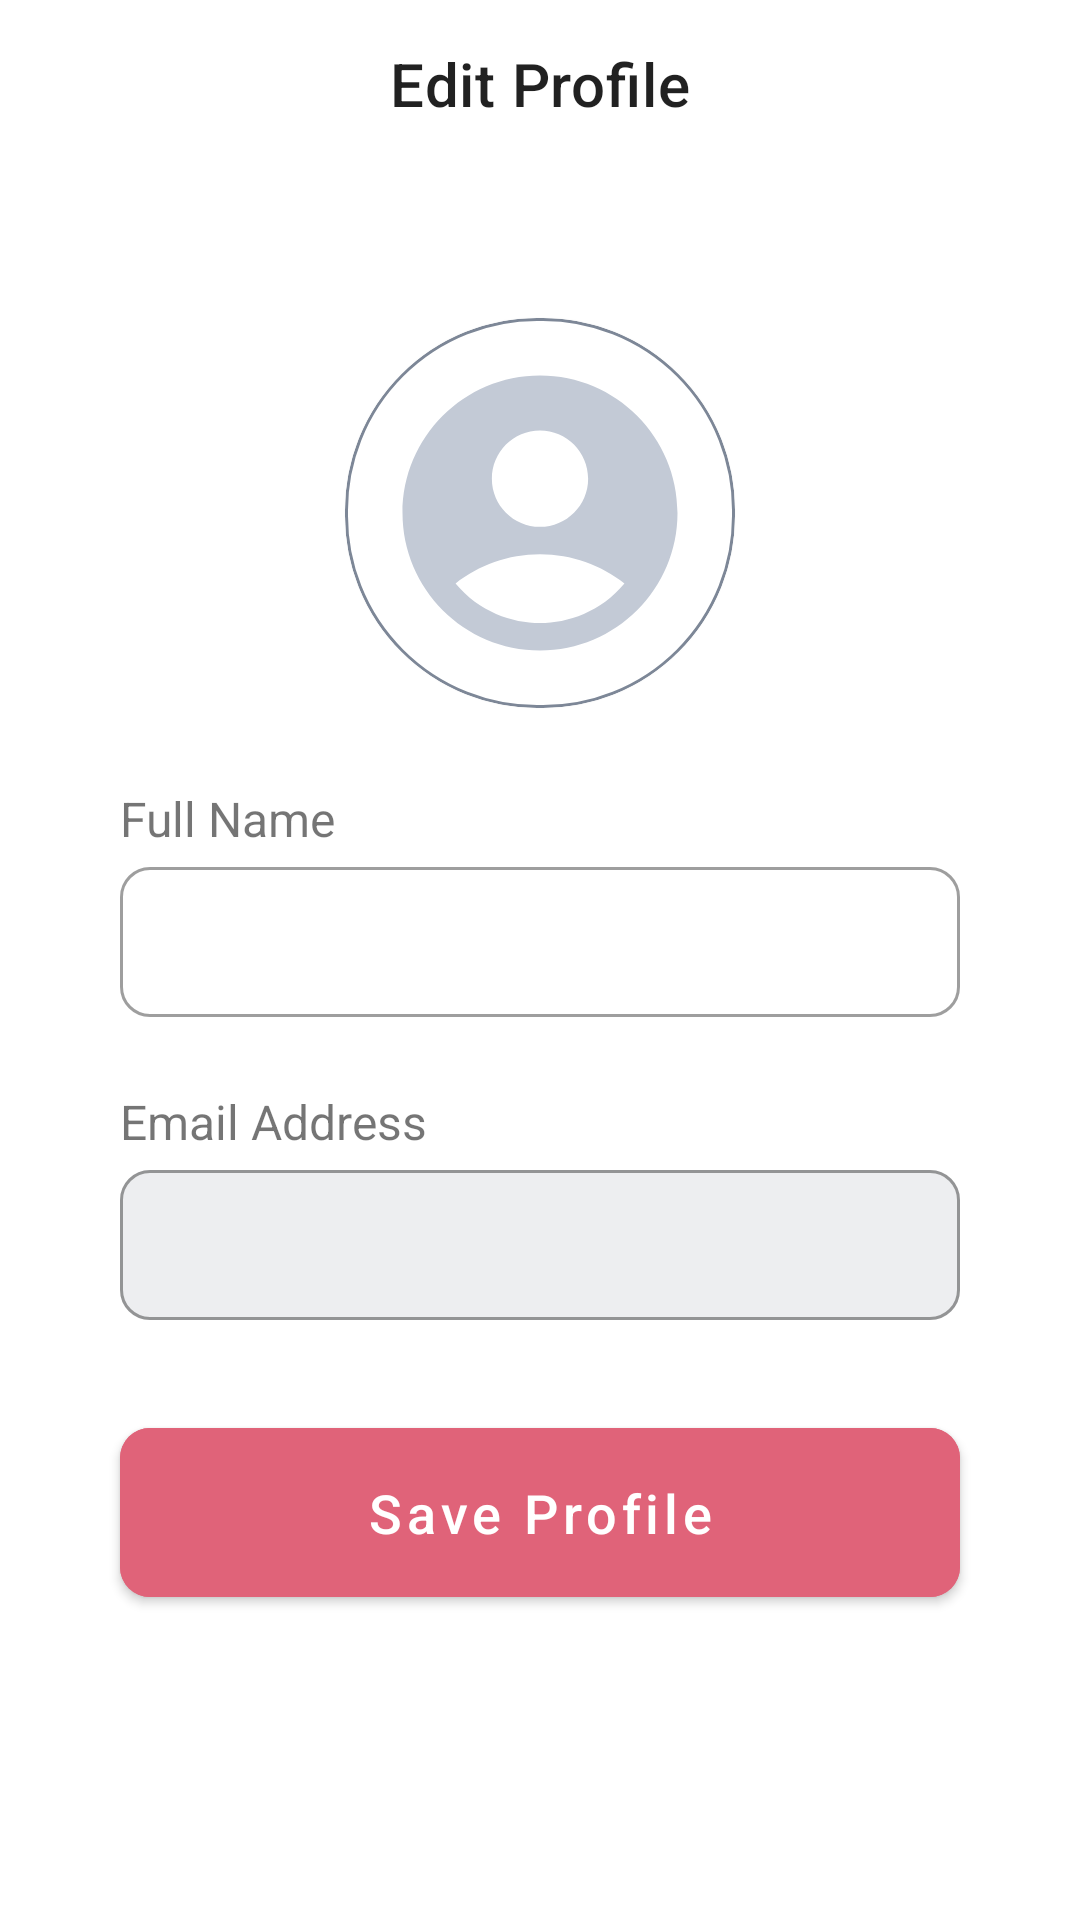

Icons on this 1080px x 1920px Android screen, each with its box as rect(x1, y1, x2, y2):
person circle: rect(402, 375, 678, 651)
